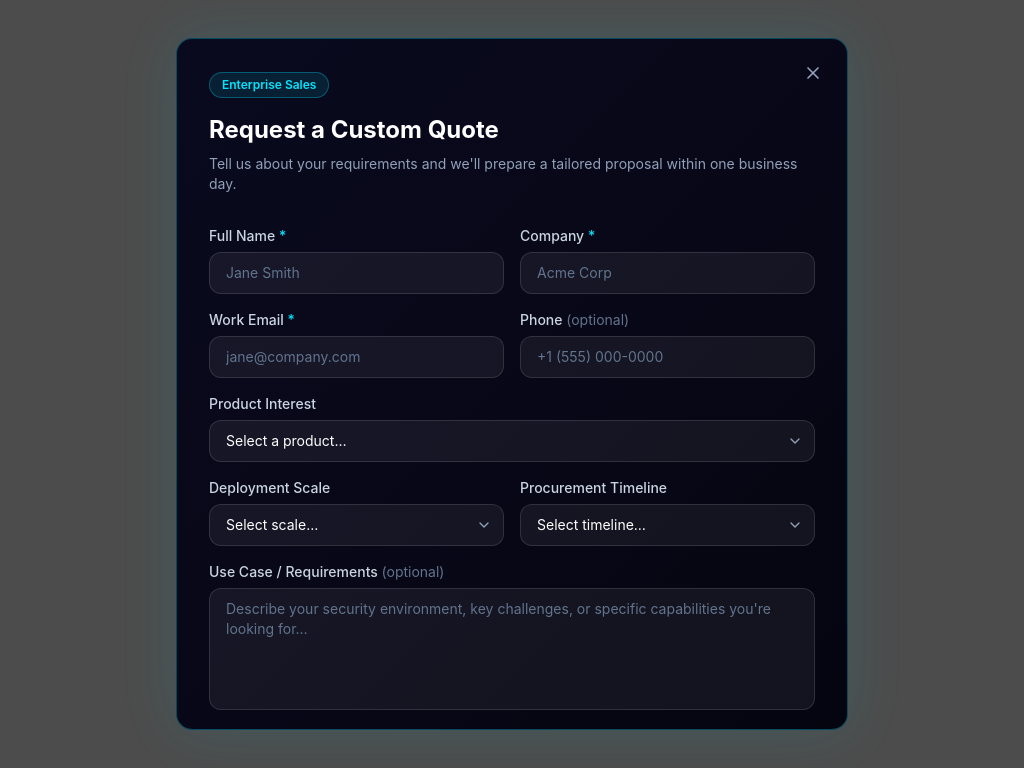
Scenario: RequestQuoteModal › shows validation error for invalid email
The image size is (1024, 768).
Step 1. Type "John Doe" into the field with placeholder "Jane Smith" → [356, 273], box [209,252,504,294]
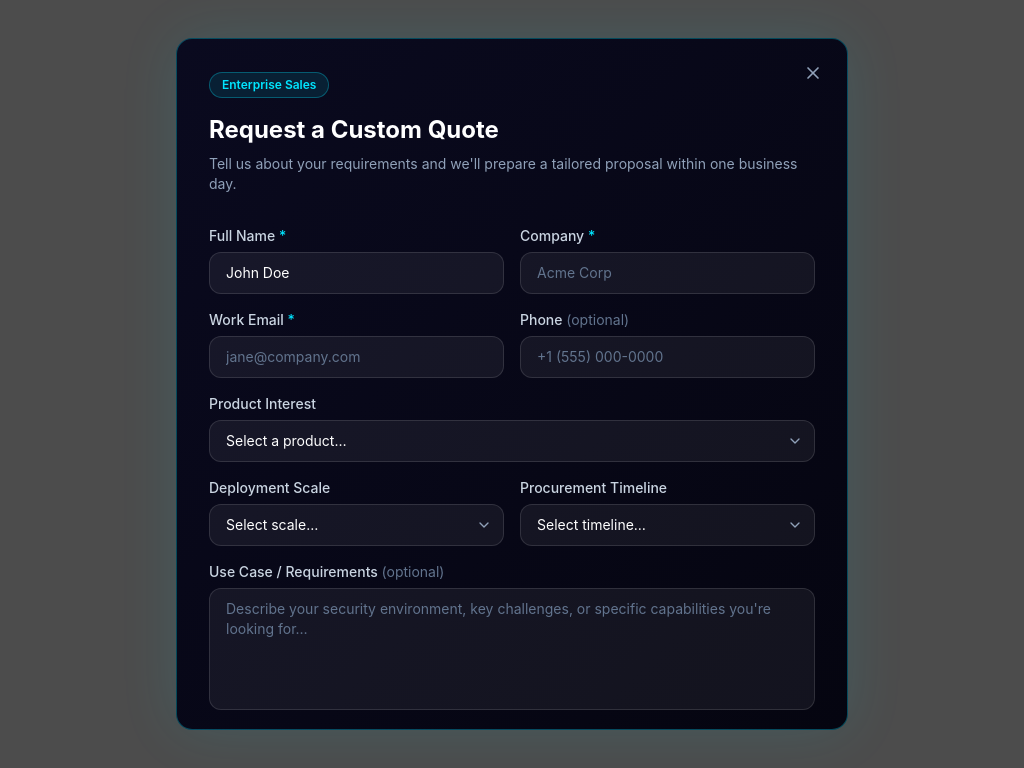
Step 2. Type "Test Corp" into the field with placeholder "Acme Corp" → [668, 273], box [520,252,815,294]
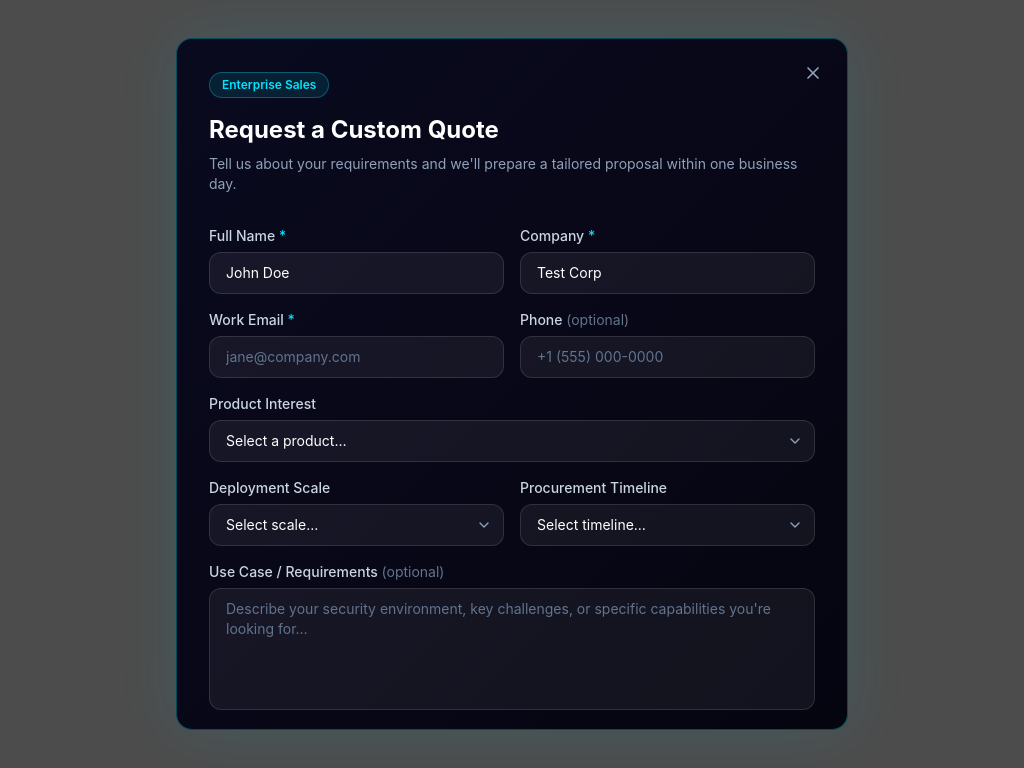
Step 3. Type "invalid-email" into the field with placeholder "jane@company.com" → [356, 357], box [209,336,504,378]
(page scrolled)
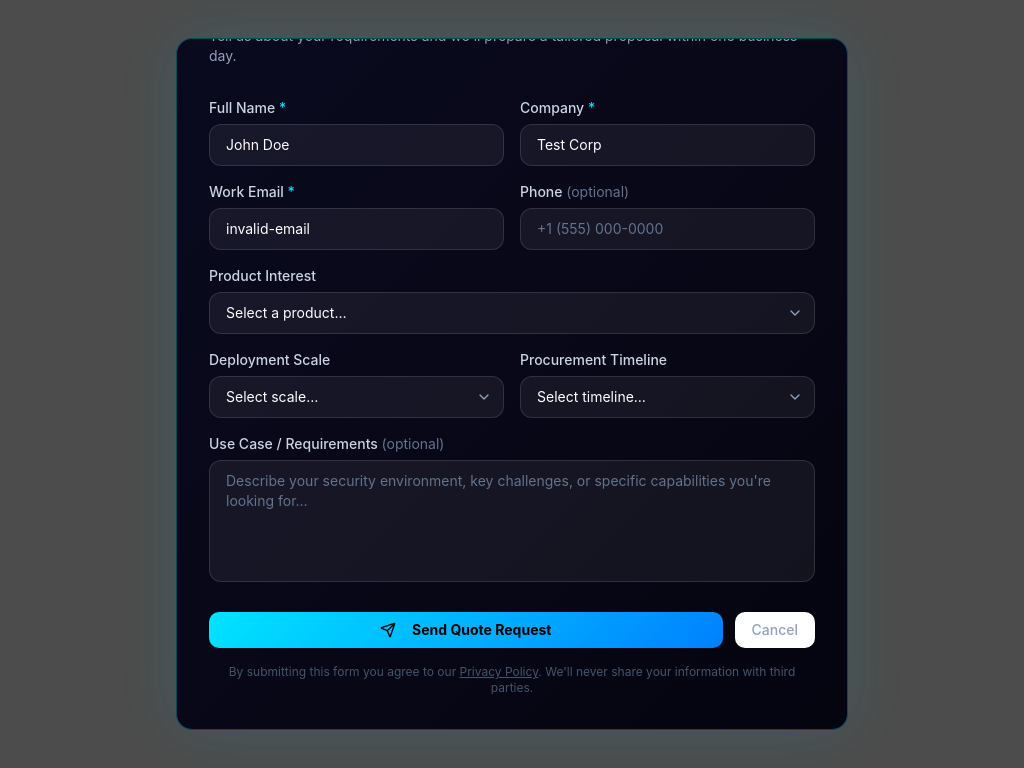
Step 4. Click the button "Send Quote Request" → [466, 630], box [209,612,722,648]
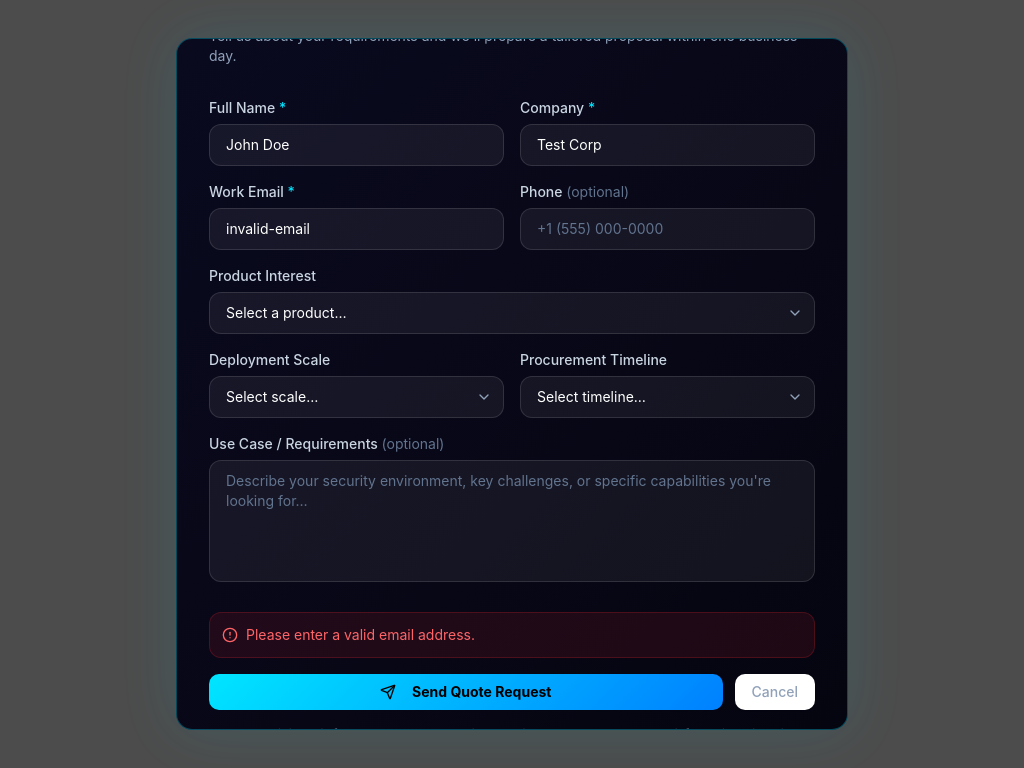
Result: the text "Please enter a valid email address." is shown at [209,612,815,658]
